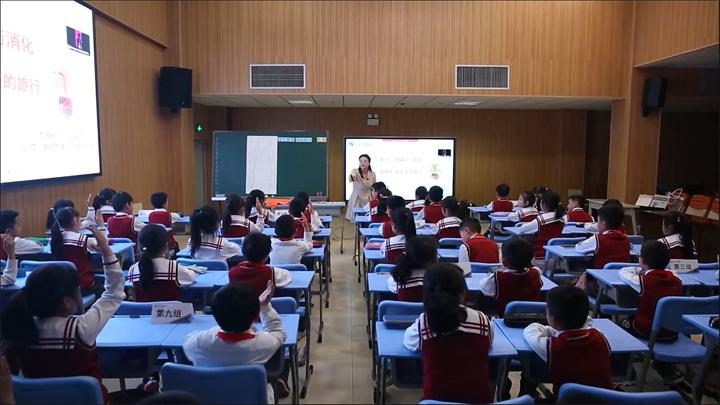bow: (459, 221, 506, 263)
hands-up: (17, 228, 128, 340), (192, 277, 293, 363), (517, 266, 608, 356), (37, 192, 111, 234), (271, 202, 319, 260), (221, 189, 263, 240)
listen: (410, 272, 485, 343), (136, 228, 188, 298), (628, 238, 681, 297), (582, 198, 621, 264), (493, 237, 538, 294), (232, 238, 282, 275), (106, 186, 140, 236), (142, 188, 185, 221)
